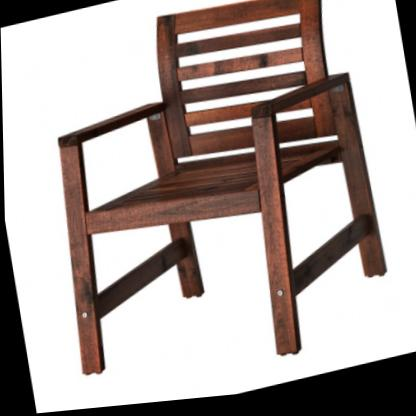Chair: (25, 0, 397, 412)
